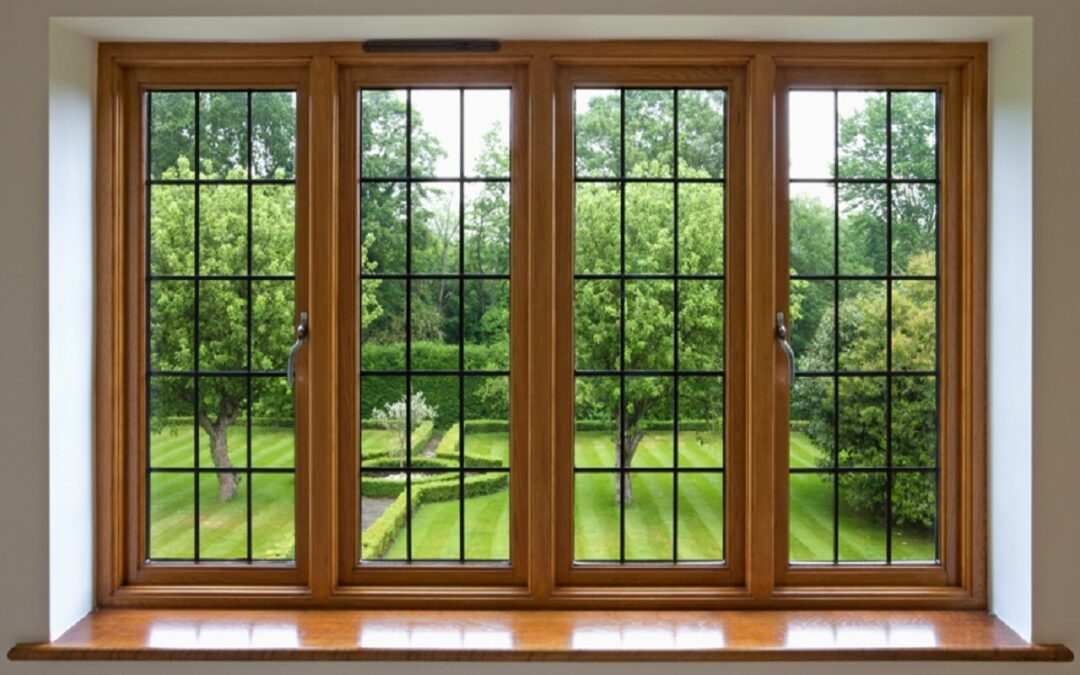Window: (104, 45, 973, 594)
